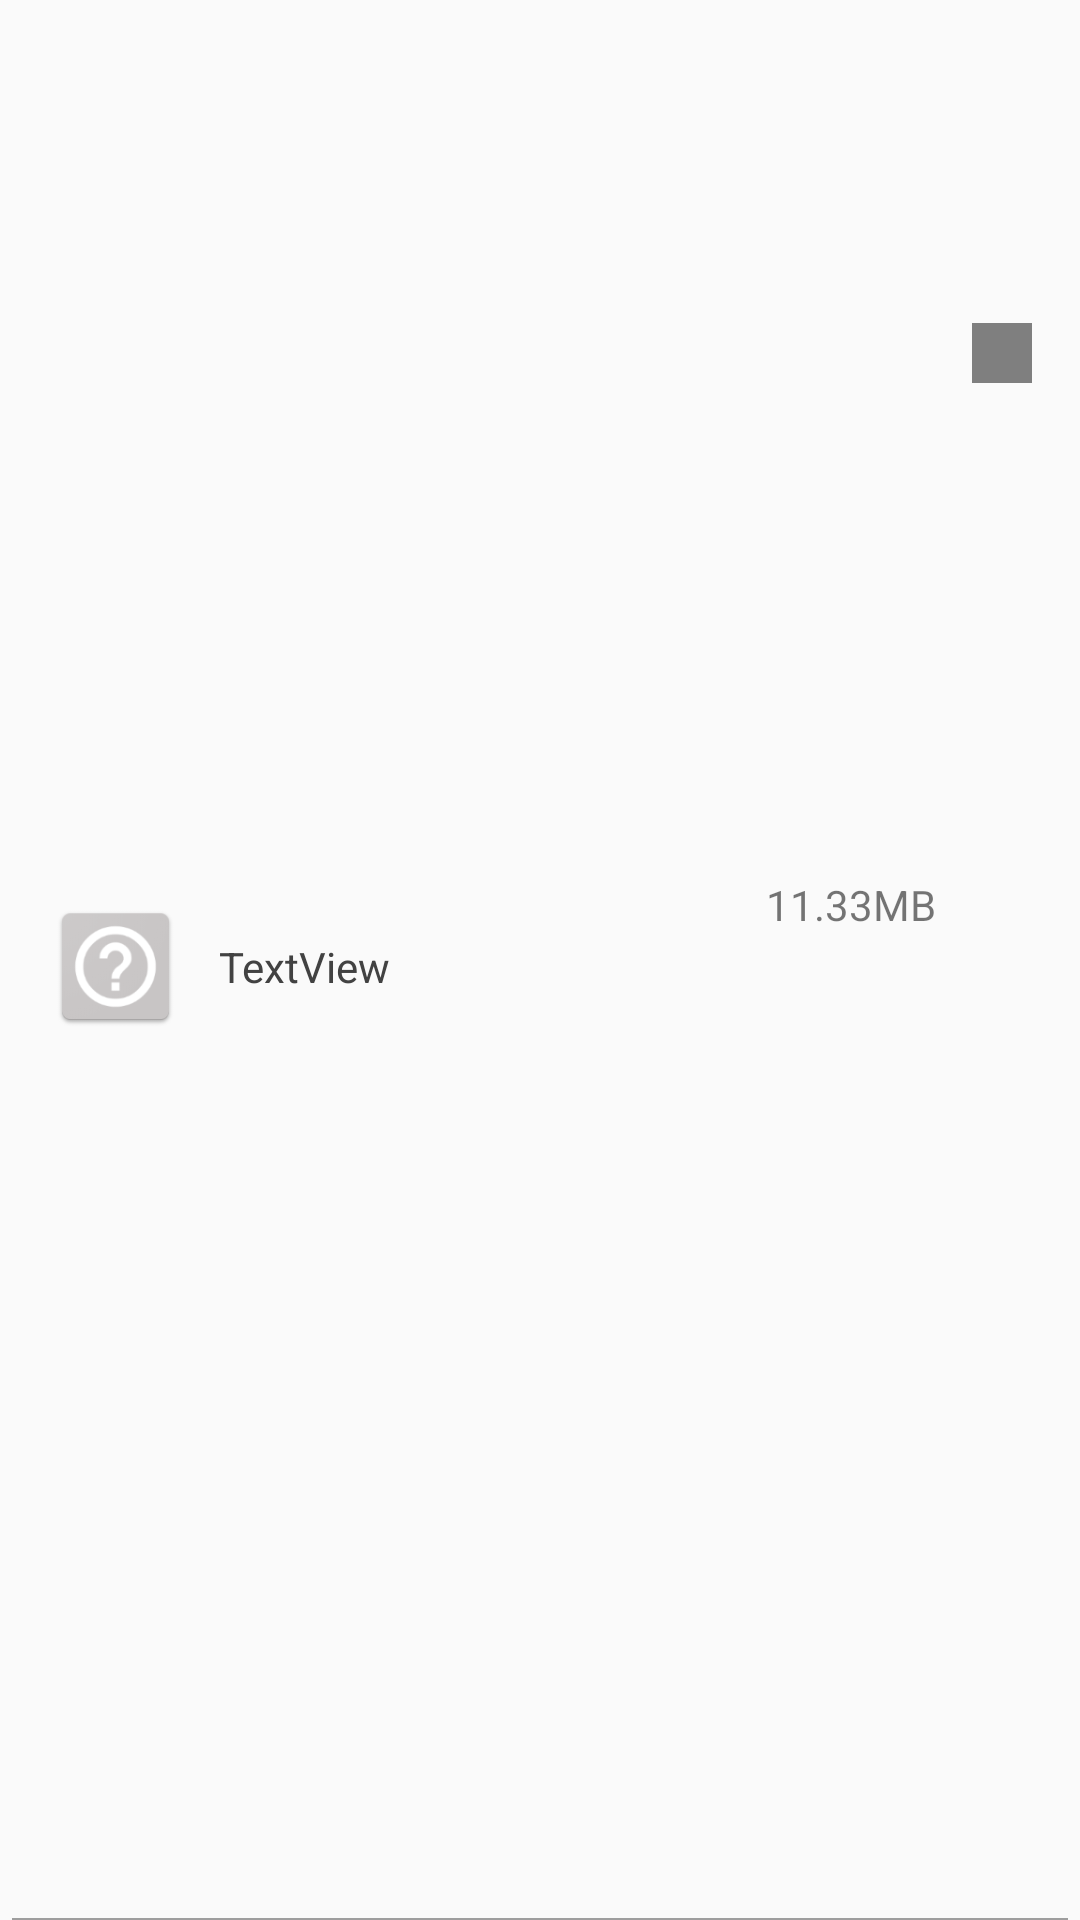

Screen size 1080x1920. Icon name, then its box in pixels as (x1, y1, x2, y2):
unknown help: (61, 913, 170, 1023)
